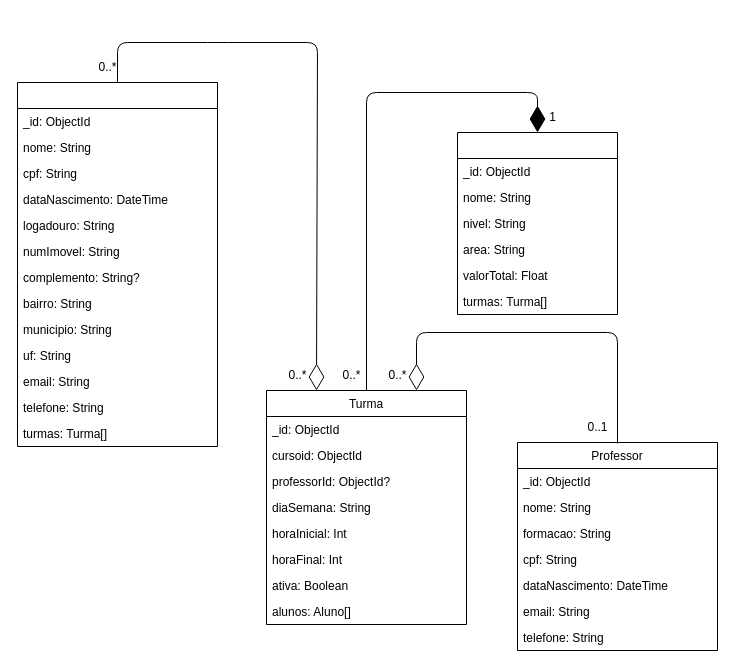
This 735x671 diagram has some shape labels left out. The box of each missing label's shape, as (x1, y1, x2, y2) in pixels:
Aluno: (16, 82, 218, 446)
Curso: (456, 132, 618, 314)
